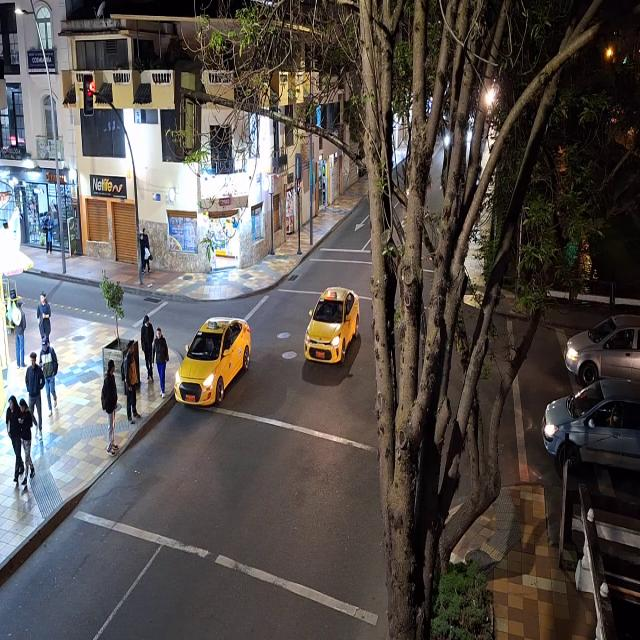SED: (542, 383, 638, 469), (177, 317, 246, 403), (307, 288, 359, 362)
